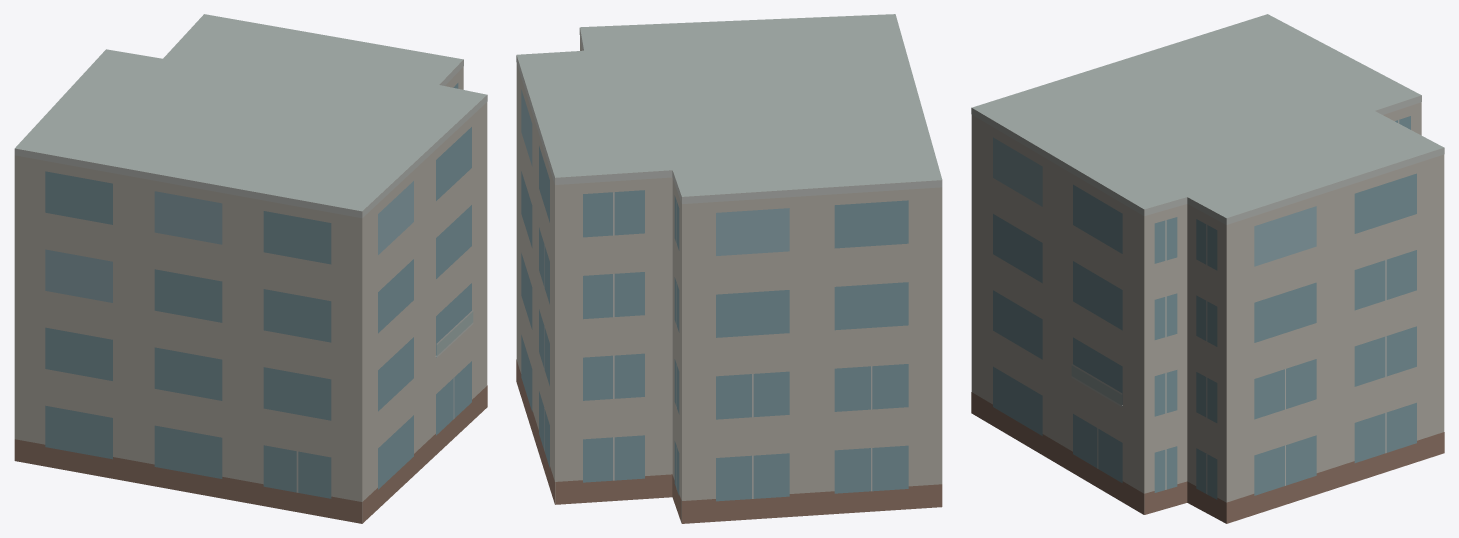
The model's file is survey-upis-32916247.glb.
3 views of the same model, side by side, from view 1: azimuth 30°, elevation 25°; view 2: azimuth 150°, elevation 25°; view 3: azimuth 270°, elevation 25° (orthographic). The views are drawn at different scales.
Visible parts, largest first — view 1: survey-upis-32916247.tmp; view 2: survey-upis-32916247.tmp; view 3: survey-upis-32916247.tmp.
Boxes of the visible parts, x1,y1,x2,y2 form: survey-upis-32916247.tmp: [14, 14, 487, 523]; survey-upis-32916247.tmp: [516, 14, 942, 523]; survey-upis-32916247.tmp: [971, 14, 1444, 523].
Bounding box in the file's own units: 15.78 × 11 × 15.43.
